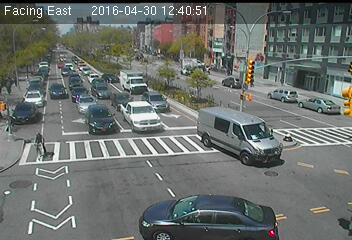neg: (124, 41, 142, 64), (204, 63, 217, 81), (168, 62, 181, 79), (163, 30, 172, 41)
pos: (28, 128, 48, 155), (2, 77, 14, 93)
